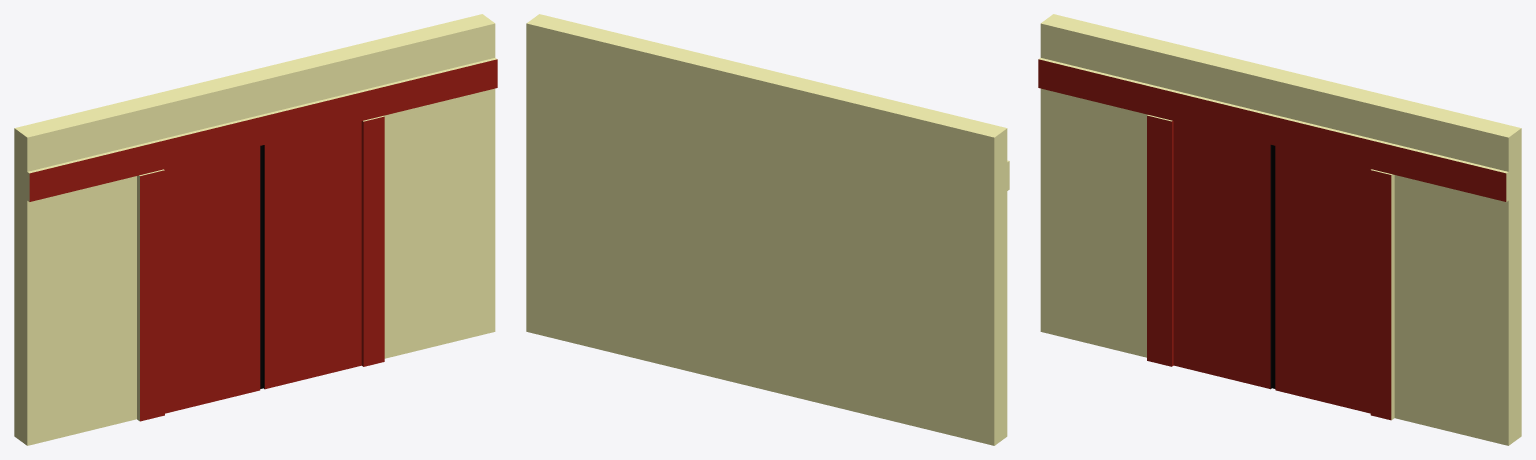
The model's file is house1.glb.
3 renders of one model, left to right at view 1: azimuth 30°, elevation 25°; view 2: azimuth 150°, elevation 25°; view 3: azimuth 330°, elevation 25°, orthographic.
Visible parts, largest first — view 1: Plane; view 2: Plane; view 3: Plane.
Part boxes in pixels (left/top/right/bottom): Plane: left=14, top=14, right=497, bottom=445; Plane: left=526, top=14, right=1009, bottom=445; Plane: left=1038, top=14, right=1521, bottom=445.
Bounding box in the file's own units: 9.41 × 5.93 × 0.5594.
